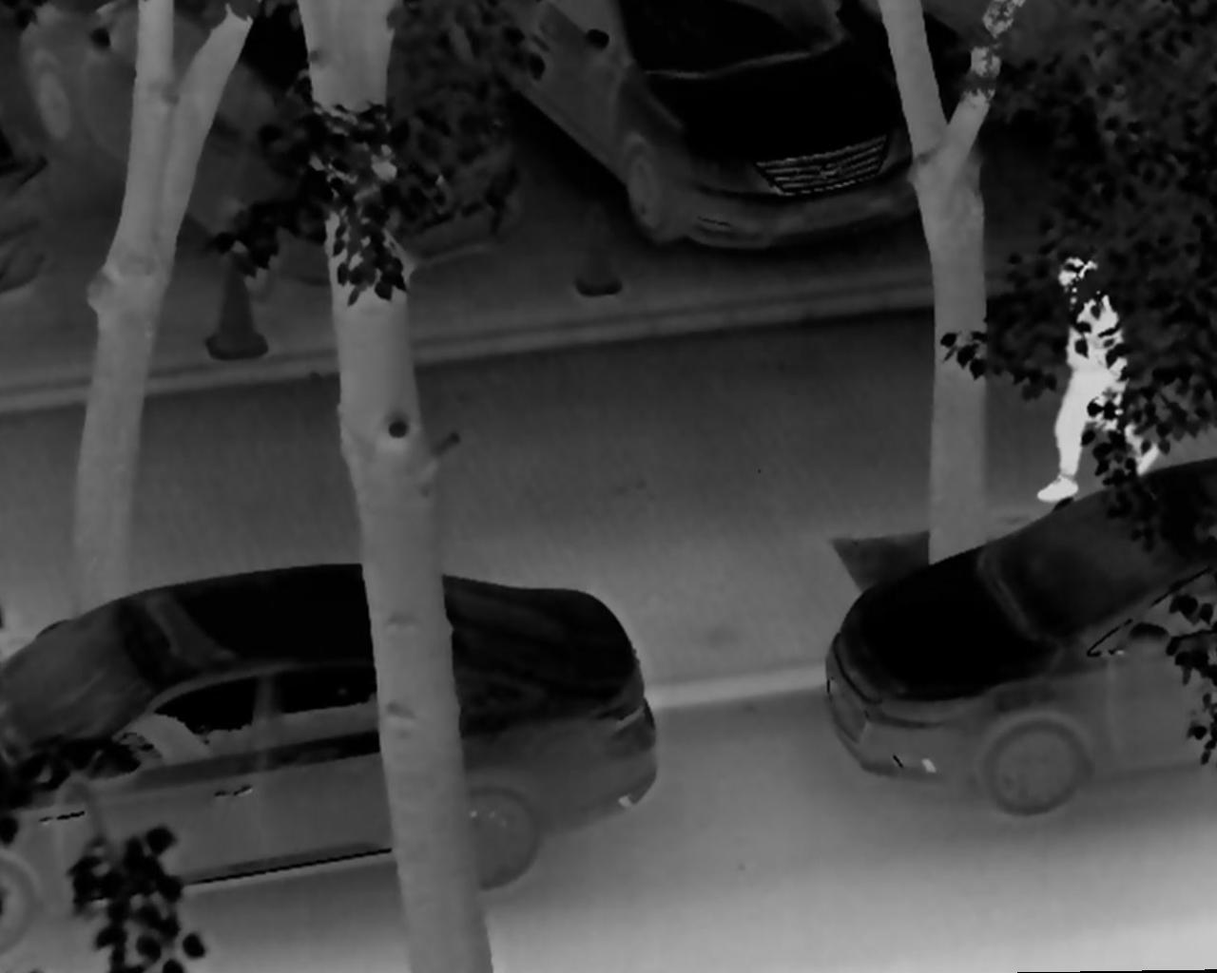person: (1031, 231, 1165, 502)
